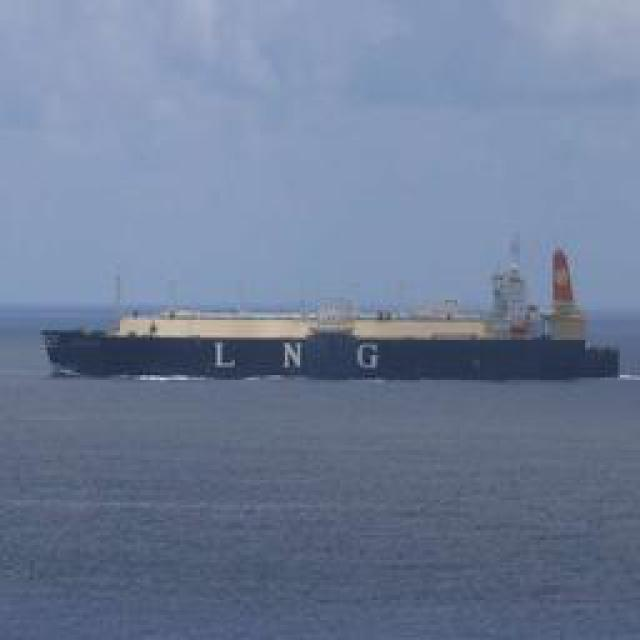Ship: (44, 312, 589, 380)
